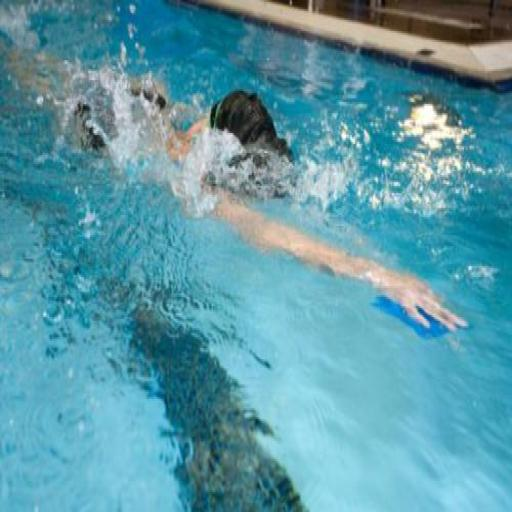swimming: (0, 41, 447, 484)
